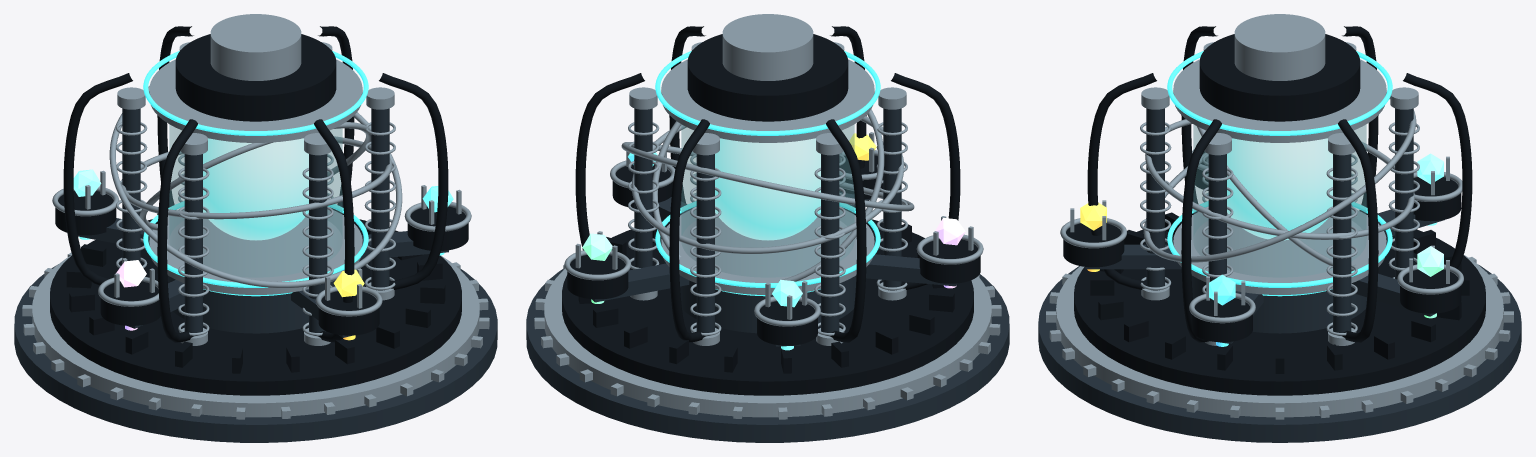
File: ECO_CORE.glb
The picture shows the model from 3 angles, left to right: view 1: azimuth 30°, elevation 25°; view 2: azimuth 150°, elevation 25°; view 3: azimuth 270°, elevation 25°; orthographic projection.
Parts seen in each view (by area): view 1: Housing (×23), ContainmentGlass, Foundation, CoolantHose (×6), SupportColumn (×4), PLASMA, RING_2, RING_1, Socket_4, Socket_0, SocketArm (×3), Socket_1 (+5 smaller); view 2: Housing (×21), Foundation, ContainmentGlass, CoolantHose (×6), SupportColumn (×4), PLASMA, SocketArm (×2), RING_2, RING_1, Socket_4, Socket_2, Socket_3 (+6 smaller); view 3: Housing (×20), Foundation, ContainmentGlass, CoolantHose (×6), SupportColumn (×4), PLASMA, RING_2, RING_1, SocketArm (×2), Socket_1, Socket_2, Socket_0 (+6 smaller).
Part boxes in pixels (<box>): Housing (×23): <box>32,14,479,417</box>; ContainmentGlass: <box>169,125,342,277</box>; Foundation: <box>14,264,497,442</box>; CoolantHose (×6): <box>63,26,448,342</box>; SupportColumn (×4): <box>122,108,389,336</box>; PLASMA: <box>203,138,308,240</box>; RING_2: <box>109,86,402,287</box>; RING_1: <box>121,136,392,219</box>; Socket_4: <box>100,281,160,325</box>; Socket_0: <box>318,291,379,335</box>; SocketArm (×3): <box>78,218,448,337</box>; Socket_1: <box>407,206,468,250</box>; Housing (×21): <box>544,14,991,417</box>; Foundation: <box>526,269,1009,442</box>; ContainmentGlass: <box>681,124,854,277</box>; CoolantHose (×6): <box>575,26,960,342</box>; SupportColumn (×4): <box>634,108,901,336</box>; PLASMA: <box>715,138,820,240</box>; SocketArm (×2): <box>592,254,957,302</box>; RING_2: <box>621,142,914,211</box>; RING_1: <box>631,116,904,253</box>; Socket_4: <box>919,239,980,283</box>; Socket_2: <box>567,255,628,299</box>; Socket_3: <box>757,301,817,345</box>; Housing (×20): <box>1056,14,1503,417</box>; Foundation: <box>1038,264,1521,442</box>; ContainmentGlass: <box>1193,124,1366,277</box>; CoolantHose (×6): <box>1087,26,1472,342</box>; SupportColumn (×4): <box>1146,108,1413,335</box>; PLASMA: <box>1227,138,1332,240</box>; RING_2: <box>1143,97,1416,262</box>; RING_1: <box>1145,119,1414,239</box>; SocketArm (×2): <box>1085,244,1434,316</box>; Socket_1: <box>1192,298,1252,342</box>; Socket_2: <box>1400,269,1461,313</box>; Socket_0: <box>1063,223,1124,267</box>.
Size of the model in its own units: 6.8 by 4.77 by 6.8.
